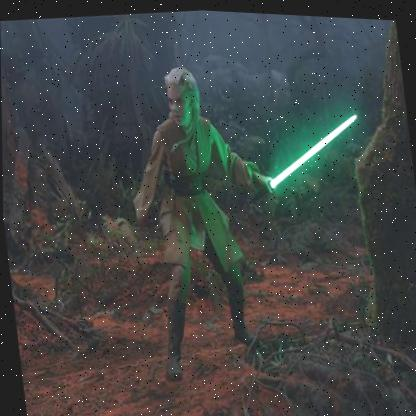lightsaber: (235, 100, 370, 214)
